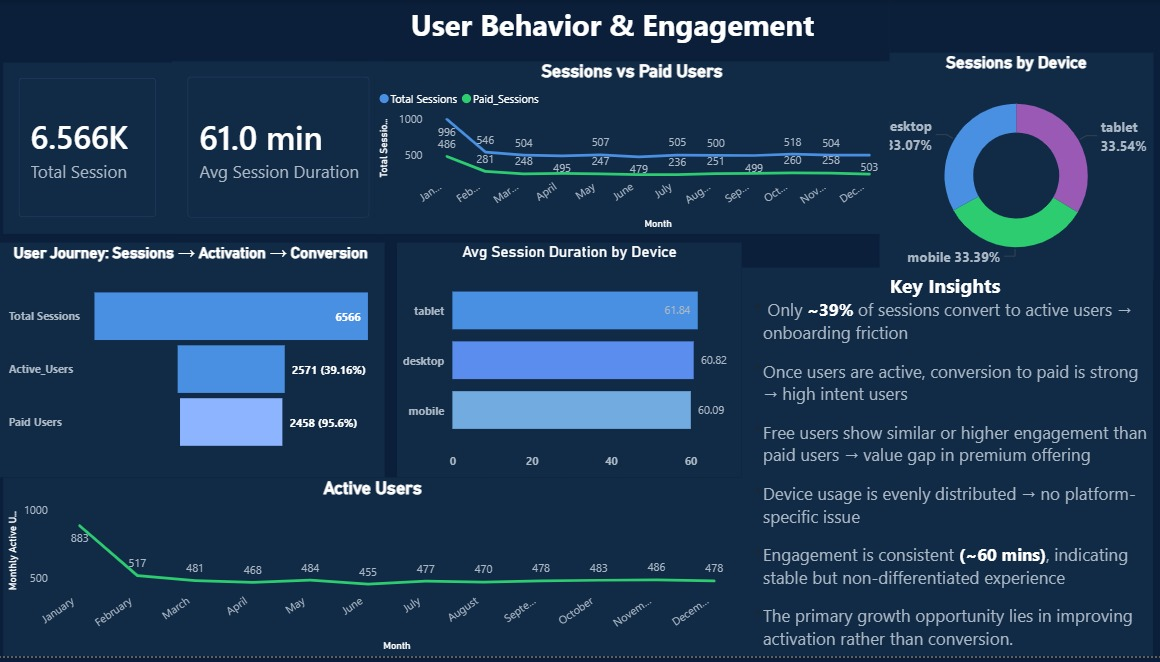

Layout of this report page (visuals, bound fields, positions):
{"tool":"powerbi","page":{"name":"Page 2","canvas":[1280,720],"ordinal":1},"visuals":[{"type":"cardVisual","fields":{"Data":["CountNonNull(sessions_2026.session_id)"]},"box":[6.9,68.6,185.2,188],"z":0},{"type":"cardVisual","fields":{"Data":["sessions_2026.Avg Session Duration"]},"box":[192.1,67.2,234.6,189.4],"z":1000},{"type":"donutChart","title":"Sessions by Device","fields":{"Category":["sessions_2026.device_type"],"Y":["sessions_2026.Total Sessions"]},"box":[968.8,57.6,300.5,249.7],"z":2000},{"type":"lineChart","title":"Sessions vs Paid Users","fields":{"Y":["sessions_2026.Total Sessions","sessions_2026.Paid_Users"],"Category":["sessions_2026.date_clean.Variation.Date Hierarchy.Month"]},"box":[414.4,67.2,565.4,189.4],"z":3000},{"type":"lineChart","title":"Active Users","fields":{"Category":["sessions_2026.date_clean.Variation.Date Hierarchy.Month"],"Y":["sessions_2026.Monthly Active Users"]},"box":[6.9,524.2,811,196.2],"z":4000},{"type":"funnel","title":"User Journey: Sessions → Activation → Conversion","fields":{"Y":["sessions_2026.Total Sessions","subscriptions_2026.Active_Users","users_2026.Paid Users"]},"box":[0,266.2,425.4,258],"z":5000},{"type":"textbox","box":[817.8,293.7,451.5,426.8],"z":6000},{"type":"clusteredBarChart","title":"Avg Session Duration by Device","fields":{"Category":["sessions_2026.device_type"],"Y":["Avg(sessions_2026.duration_minutes)"]},"box":[439.1,266.2,378.7,258],"z":7000},{"type":"textbox","box":[371.9,0,607.9,67.2],"z":8000}]}

Visuals, with their boxes in screenshot pixels (x1, y1, x2, y2), scaled from the page's 1280x720 canvas onto the 1160x662 screenshot:
cardVisual - CountNonNull(sessions_2026.session_id): crop(6, 63, 174, 236)
cardVisual - sessions_2026.Avg Session Duration: crop(174, 62, 387, 236)
"Sessions by Device" donutChart: crop(878, 53, 1150, 283)
"Sessions vs Paid Users" lineChart: crop(376, 62, 888, 236)
"Active Users" lineChart: crop(6, 482, 741, 661)
"User Journey: Sessions → Activation → Conversion" funnel: crop(0, 245, 386, 482)
textbox: crop(741, 270, 1150, 661)
"Avg Session Duration by Device" clusteredBarChart: crop(398, 245, 741, 482)
textbox: crop(337, 0, 888, 62)
